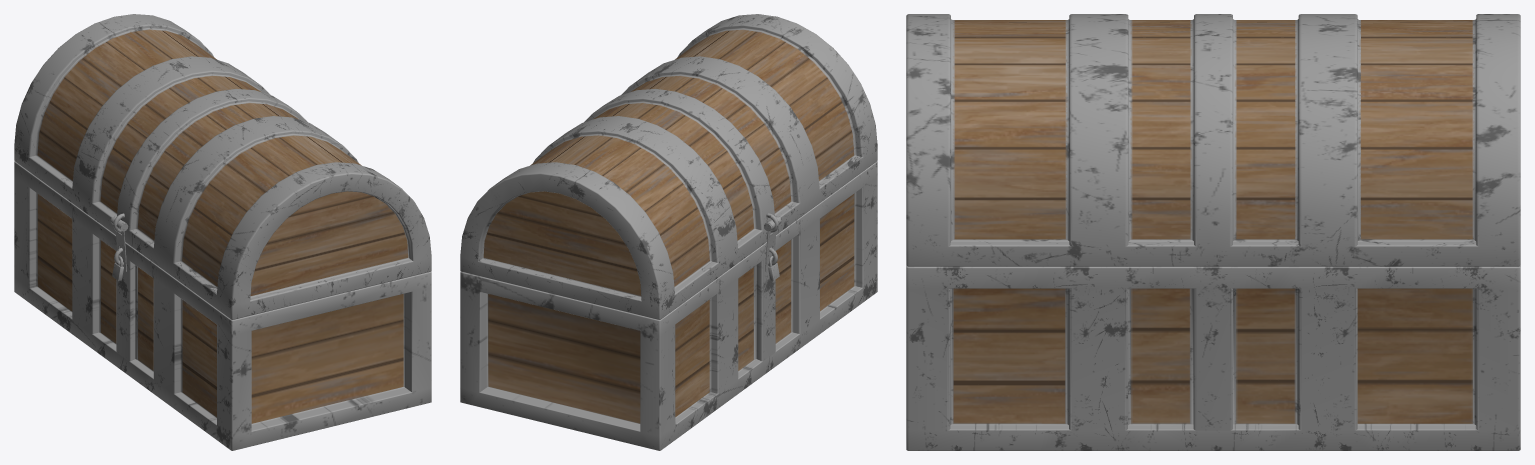
The model's file is Chest anie 1.fbx.
3 views of the same model, side by side, from view 1: azimuth 30°, elevation 25°; view 2: azimuth 150°, elevation 25°; view 3: azimuth 270°, elevation 25° (orthographic). The views are drawn at different scales.
Parts seen in each view (by area): view 1: Cylinder.003, Cube.027, Cylinder.108; view 2: Cylinder.003, Cube.027, Cylinder.108; view 3: Cylinder.003, Cube.027.
Boxes of the visible parts, x1=… form: Cylinder.003: x1=14, y1=14, x2=431, y2=319; Cube.027: x1=14, y1=161, x2=431, y2=450; Cylinder.108: x1=250, y1=191, x2=408, y2=295; Cylinder.003: x1=460, y1=14, x2=877, y2=319; Cube.027: x1=460, y1=161, x2=877, y2=450; Cylinder.108: x1=483, y1=191, x2=641, y2=295; Cylinder.003: x1=906, y1=14, x2=1520, y2=266; Cube.027: x1=906, y1=265, x2=1520, y2=450.
Size of the model in its own units: 99.53 by 114 by 179.
